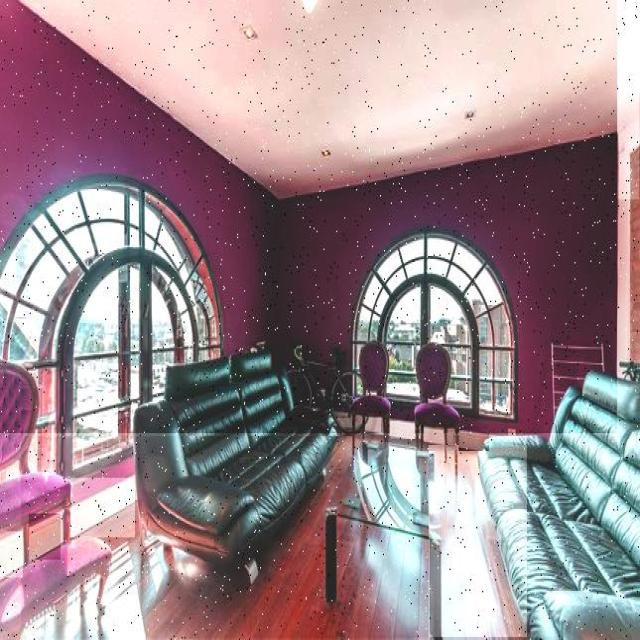Wall: (0, 0, 617, 433), (20, 0, 640, 199), (22, 436, 429, 639), (427, 446, 527, 637), (71, 478, 135, 537), (30, 514, 61, 560), (0, 532, 23, 577), (459, 430, 489, 451), (390, 421, 415, 439), (424, 428, 444, 444), (365, 418, 381, 433), (449, 432, 454, 447)
